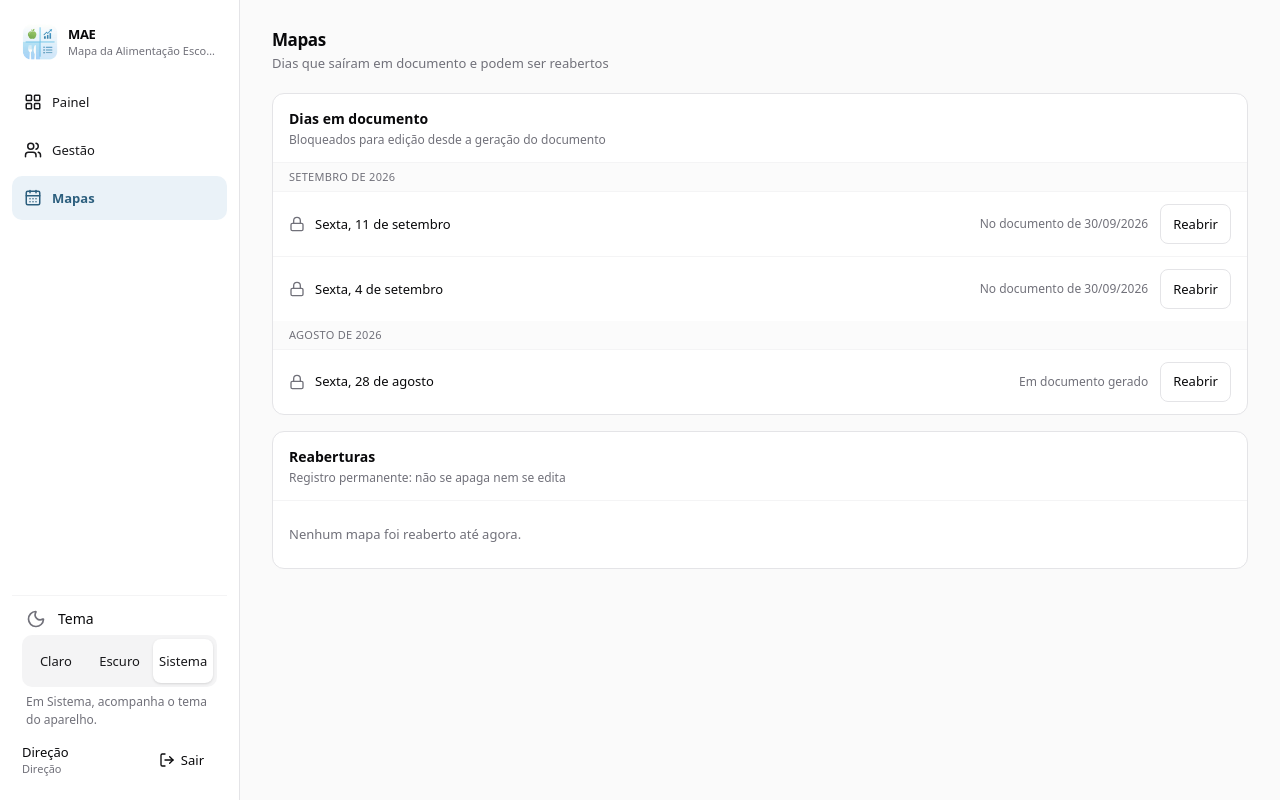
Test: a reabertura › sem rede, diz que o mapa continua bloqueado
Click the button with aria-label "Reabrir o mapa de Sexta, 4 de setembro" at (1196, 289), box [1160,269,1231,309]
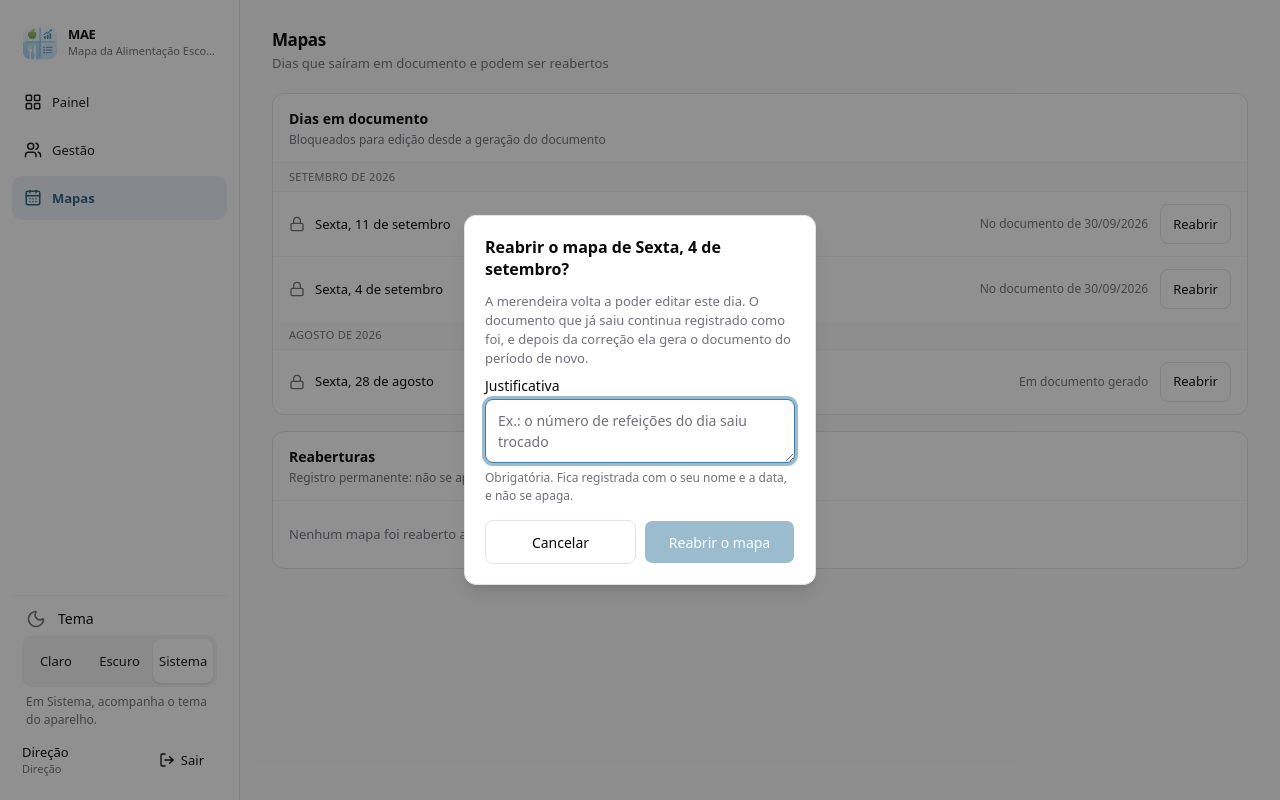
Type "O número de refeições saiu trocado." into the text box labelled "Justificativa" at (640, 431), box [485,399,795,463]
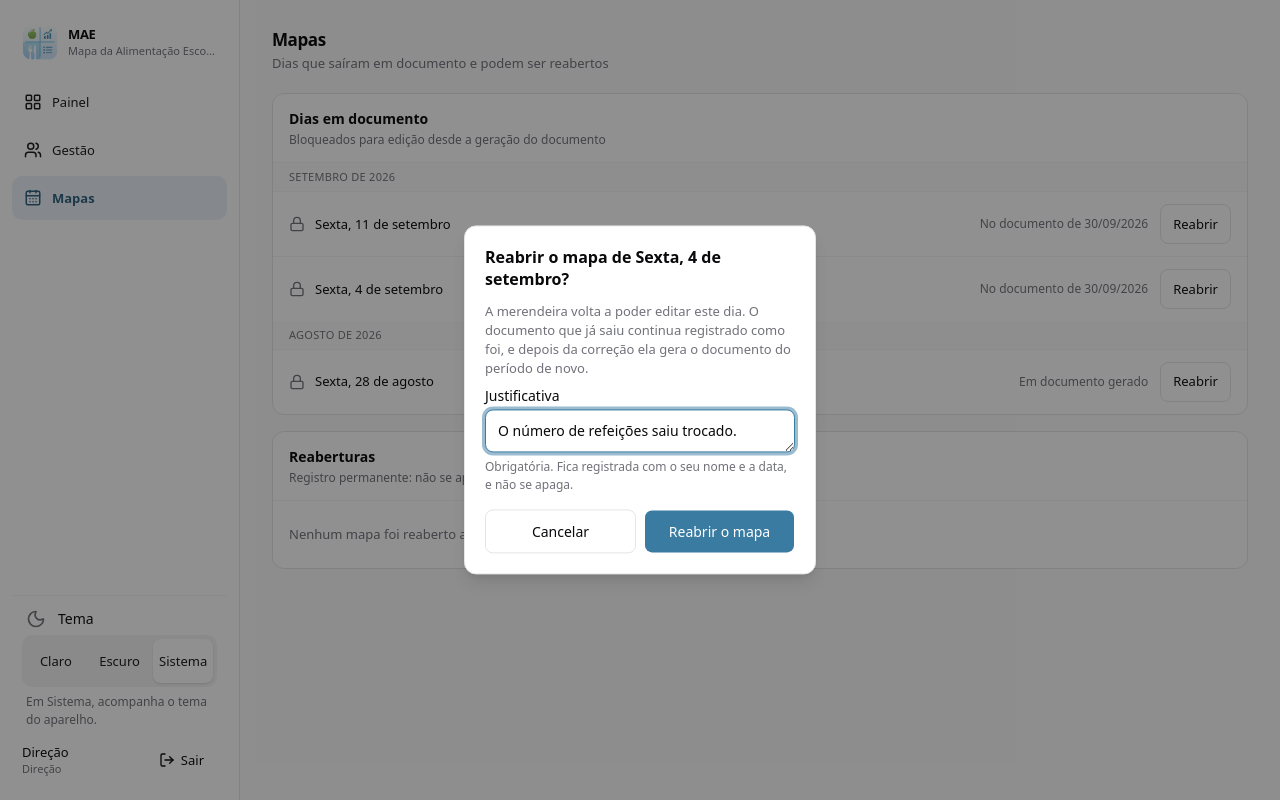
Click the button "Reabrir o mapa" at (720, 532), box [644,510,795,554]
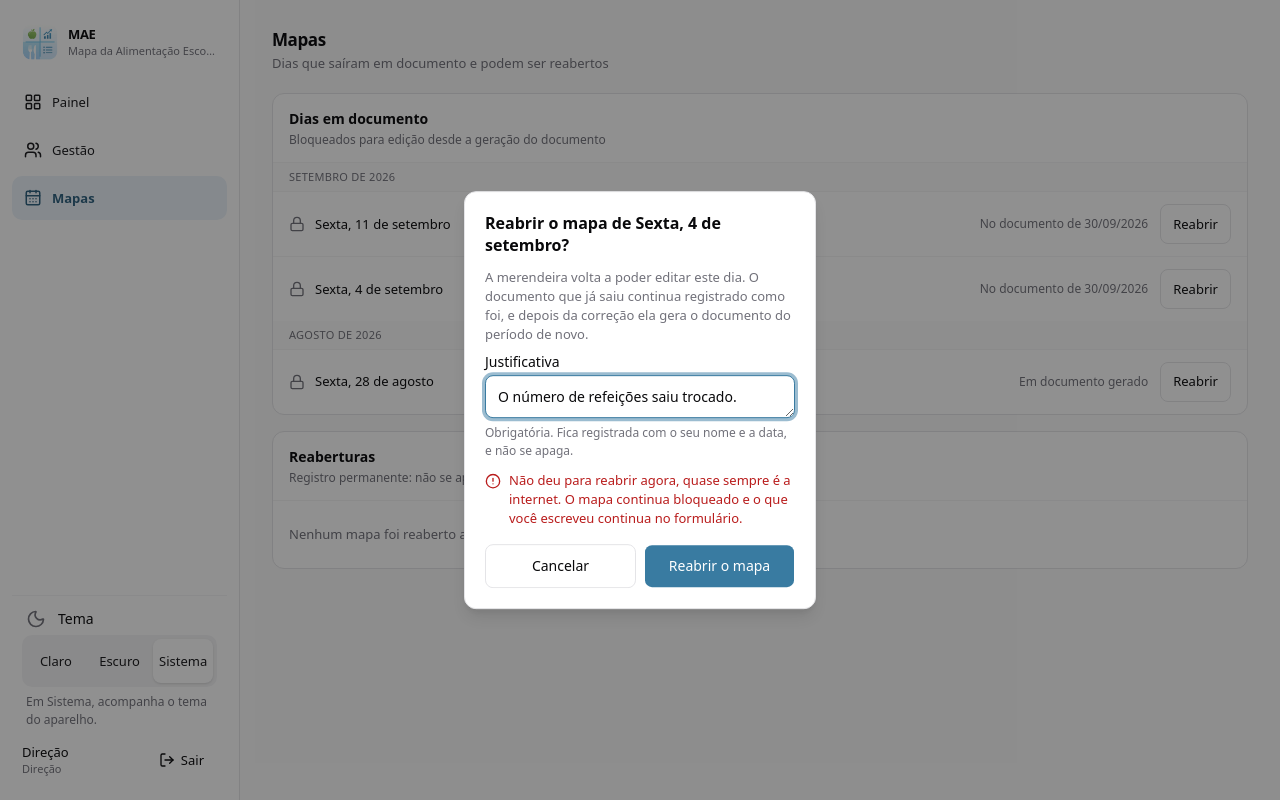
Now the text "O mapa continua bloqueado" is shown, box [509,471,791,527]
